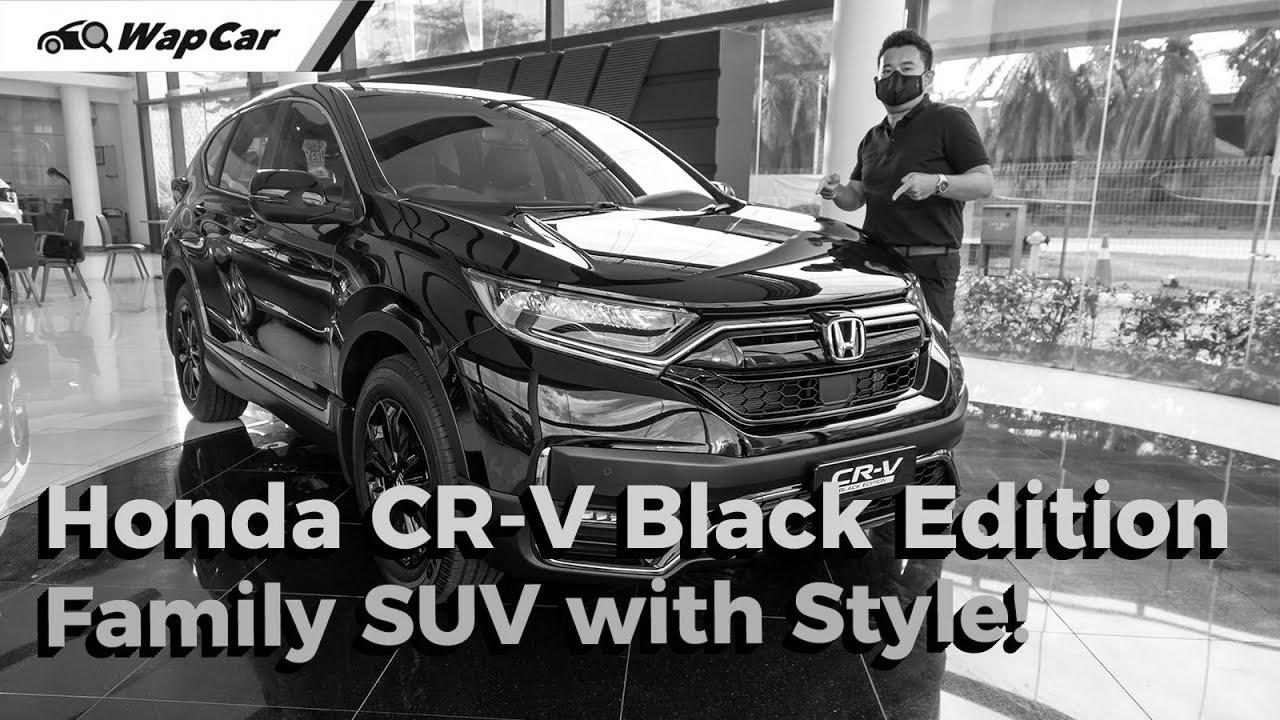Car hood: (394, 193, 922, 312)
Driver-s door - -F-R-: (233, 92, 333, 412)
Fender - -F-R-: (332, 193, 498, 424)
Fender - -R-R-: (186, 104, 256, 378)
Front bumper: (452, 342, 979, 607)
Headlight - -L-: (896, 269, 946, 342)
Headlight - -R-: (454, 260, 700, 378)
Rear light - -L-: (156, 169, 196, 212)
Side bumper - -R-: (193, 329, 357, 465)
Side mirror - -L-: (244, 162, 348, 237)
Side mirror - -R-: (697, 172, 760, 224)
